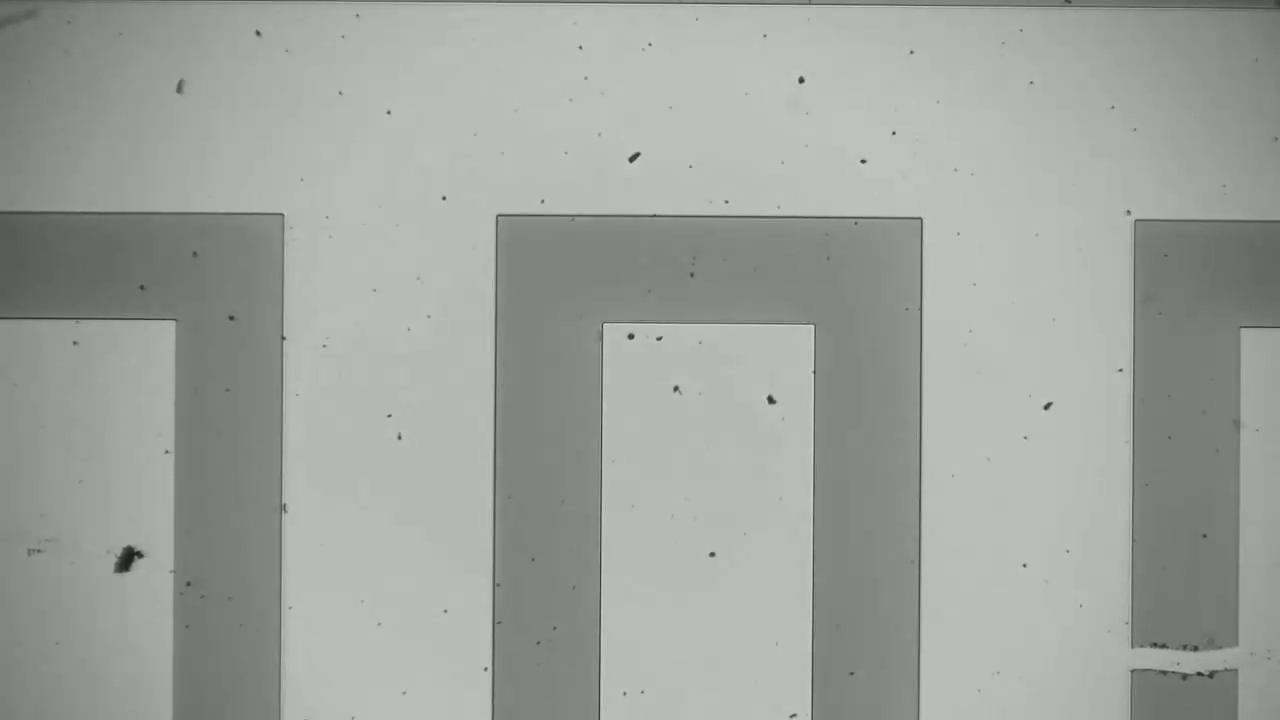Short_circuit: (1079, 612, 1274, 698)
